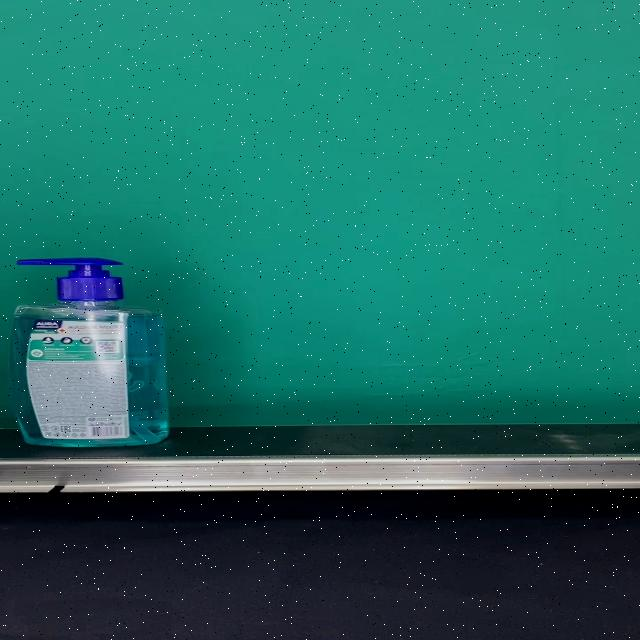Bottle: (8, 258, 170, 447)
Cap: (16, 258, 120, 301)
